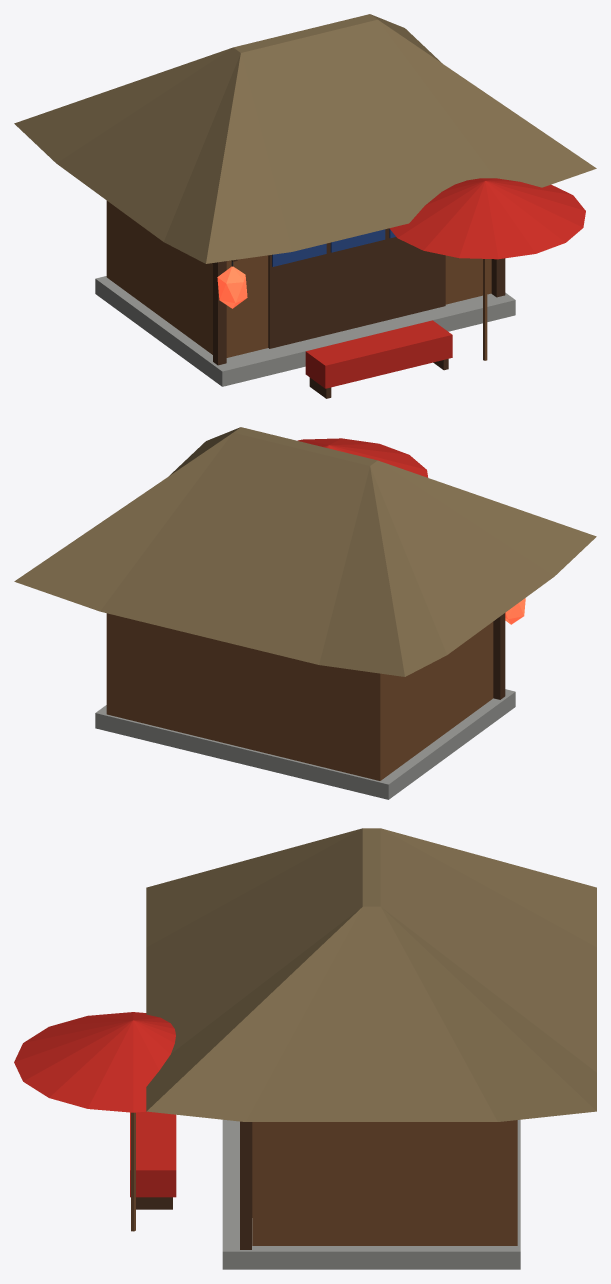
The model's file is chaya.glb.
The picture shows the model from 3 angles, top to bottom: view 1: azimuth 30°, elevation 25°; view 2: azimuth 150°, elevation 25°; view 3: azimuth 270°, elevation 25°; orthographic projection. The views are drawn at different scales.
Visible parts, largest first — view 1: chaya; view 2: chaya; view 3: chaya.
Boxes of the visible parts, x1,y1,x2,y2 form: chaya: (14,14,596,398); chaya: (14,427,596,799); chaya: (14,828,596,1269).
Size of the model in its own units: 8 by 5.31 by 8.8.
